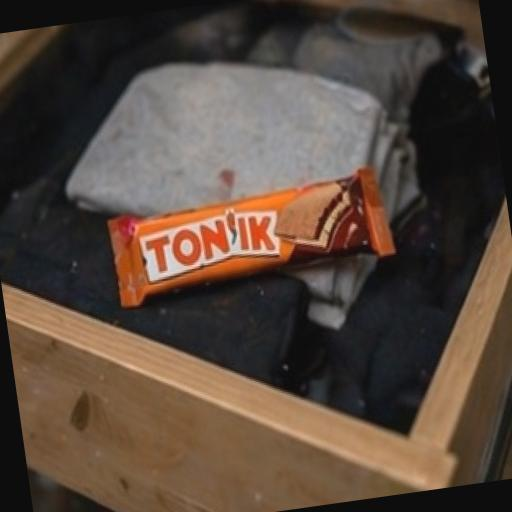tonik: (41, 103, 468, 381)
